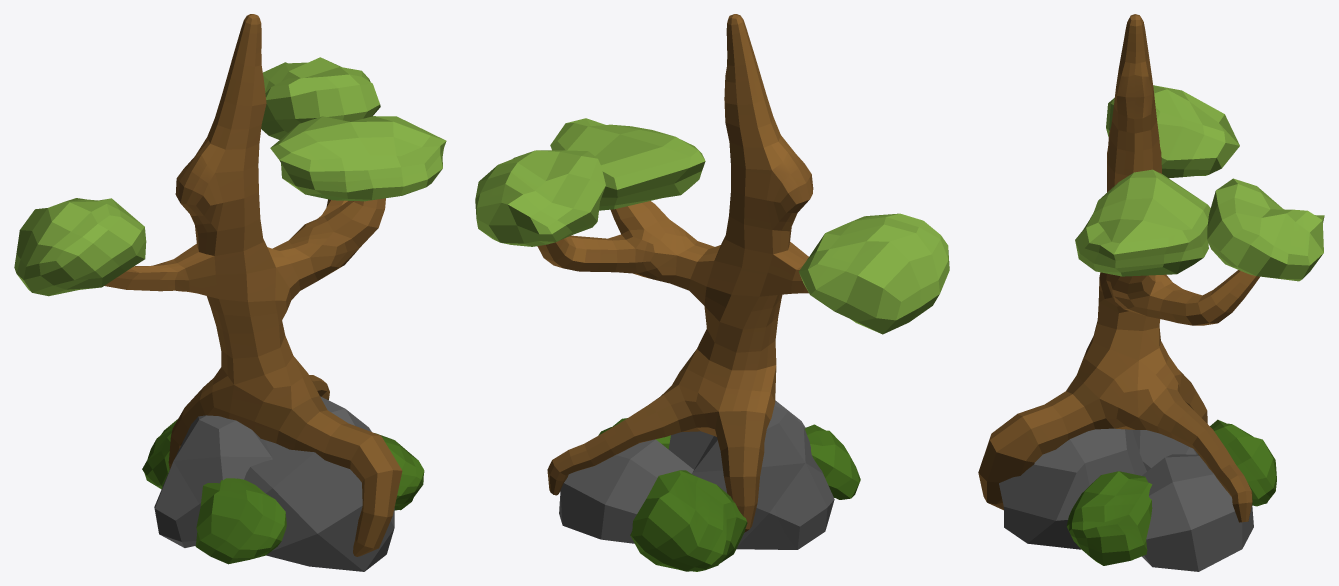
Rendered from 2StadiaTree.fbx.
3 views of the same model, side by side, from view 1: azimuth 30°, elevation 25°; view 2: azimuth 150°, elevation 25°; view 3: azimuth 270°, elevation 25° (orthographic). The views are drawn at different scales.
Visible parts, largest first — view 1: Plane.001; view 2: Plane.001; view 3: Plane.001.
Part boxes in pixels (<box>): Plane.001: <box>14,14,446,571</box>; Plane.001: <box>475,14,949,571</box>; Plane.001: <box>978,14,1324,571</box>.
Bounding box in the file's own units: 118 × 148 × 91.8.
